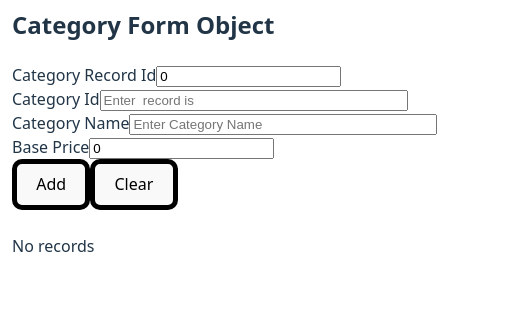
Scenario: CategoryStateComponent › should add a new Category to the table when Save (Add) button is clicked
Replace the text in the number field with placeholder "Enter Category record is" next to "Category Record Id" with "1" at [249, 76], box [156,66,341,87]
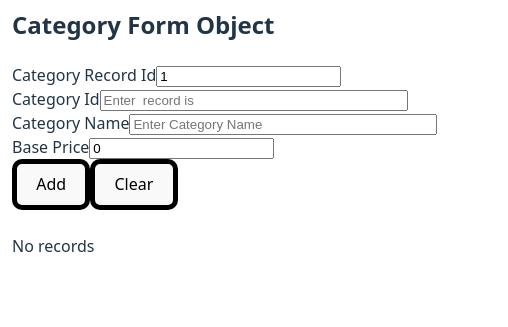
Type "CAT001" into the field with placeholder "Enter record is" at [254, 100], box [100,90,408,111]
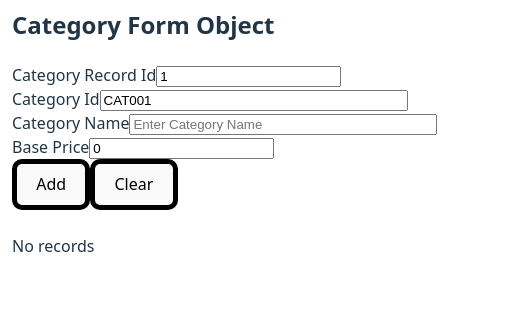
Type "Electronics" into the field with placeholder "Enter Category Name" at [284, 124], box [130,114,438,135]
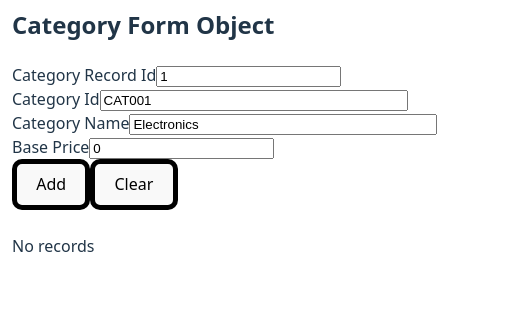
Replace the text in the number field with placeholder "Enter Category record is" next to "Base Price" with "500" at [182, 148], box [89,138,274,159]
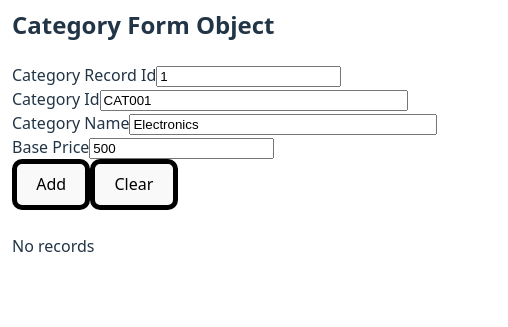
Click the button "Add" at [51, 184], box [12,159,90,210]
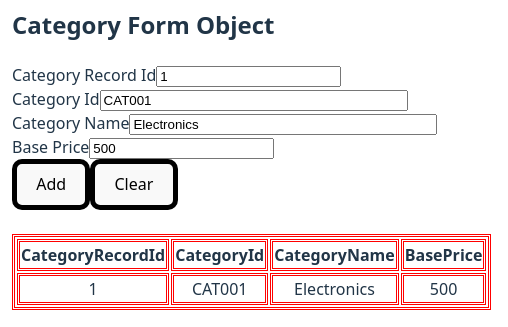
Expected: the text "CAT001" is shown, [171,273,268,305]
Expected: the text "Electronics" is shown, [270,273,399,305]
Expected: the text "500" is shown, [401,273,486,305]
